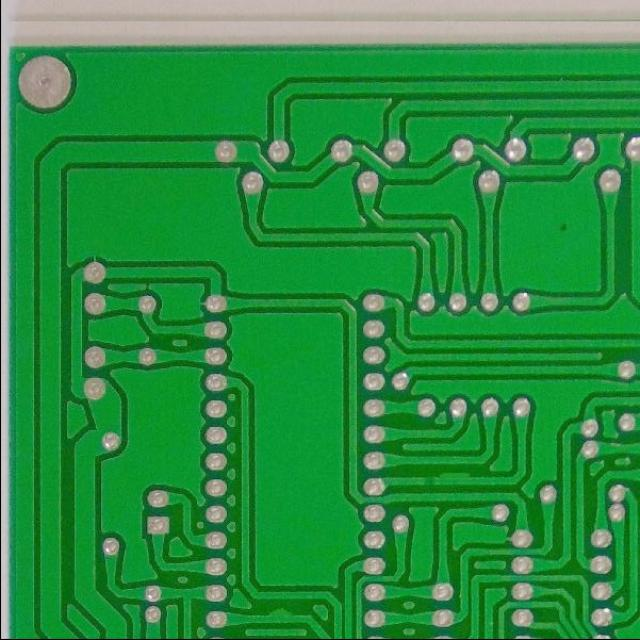spur: (431, 468, 477, 484), (263, 601, 295, 623)
